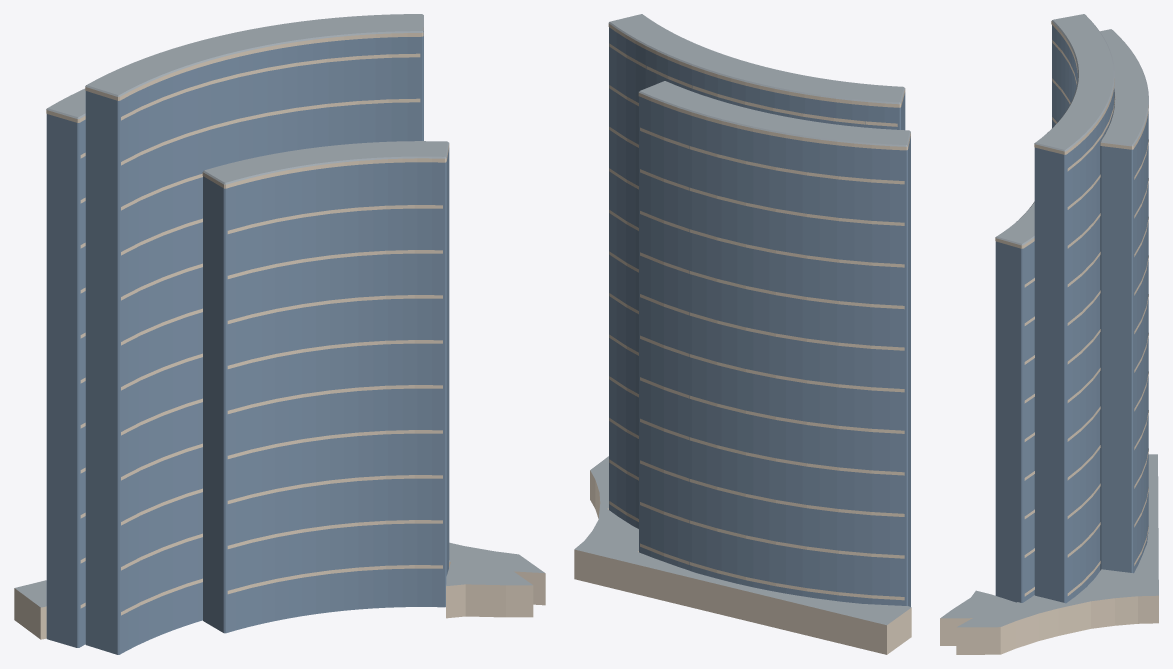
The model's file is lv-vdara.glb.
3 renders of one model, left to right at view 1: azimuth 30°, elevation 25°; view 2: azimuth 150°, elevation 25°; view 3: azimuth 270°, elevation 25°, orthographic. The views are drawn at different scales.
Visible parts, largest first — view 1: Vdara Hotel & Spa; view 2: Vdara Hotel & Spa; view 3: Vdara Hotel & Spa.
Part boxes in pixels (x1,y1,x2,y2): Vdara Hotel & Spa: (14,14,545,654); Vdara Hotel & Spa: (574,14,911,654); Vdara Hotel & Spa: (940,14,1158,654).
Bounding box in the file's own units: 135 × 174 × 71.9.
